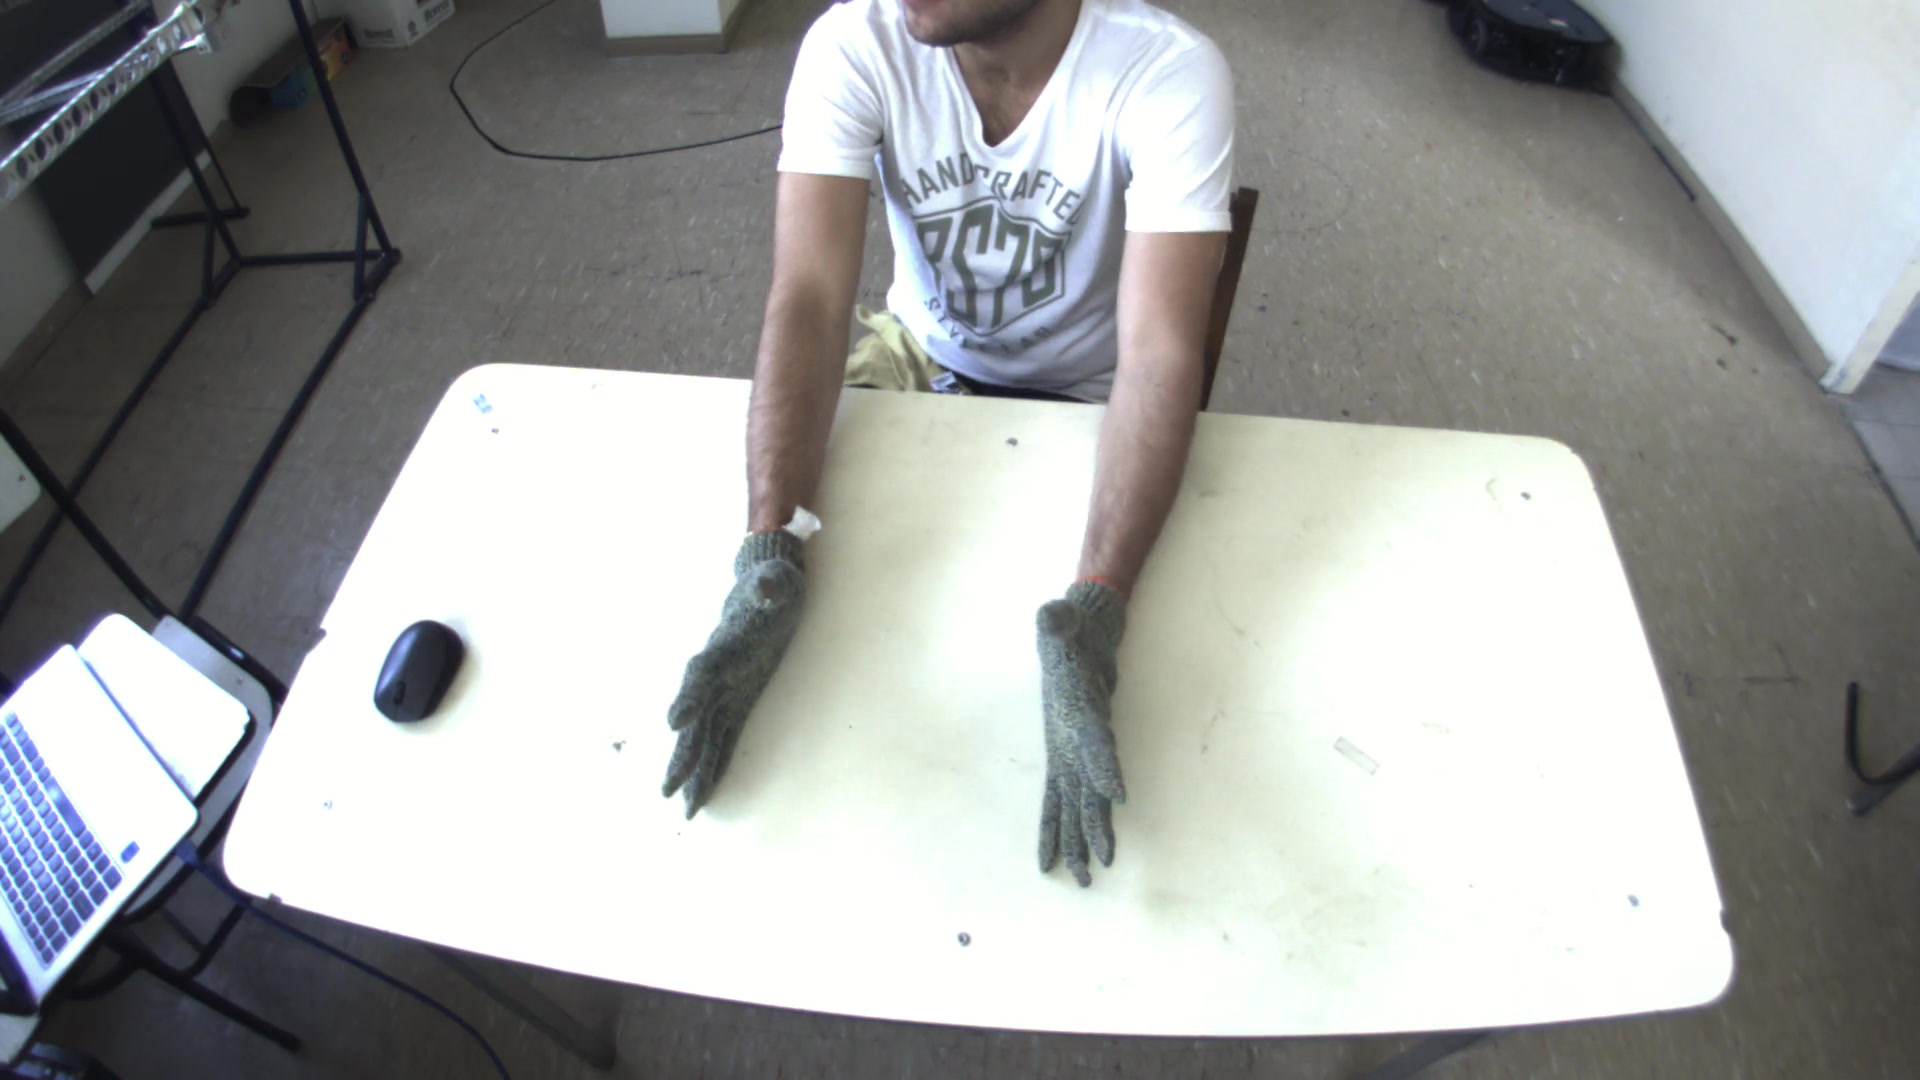hand: (644, 520, 822, 827), (1026, 579, 1135, 890)
